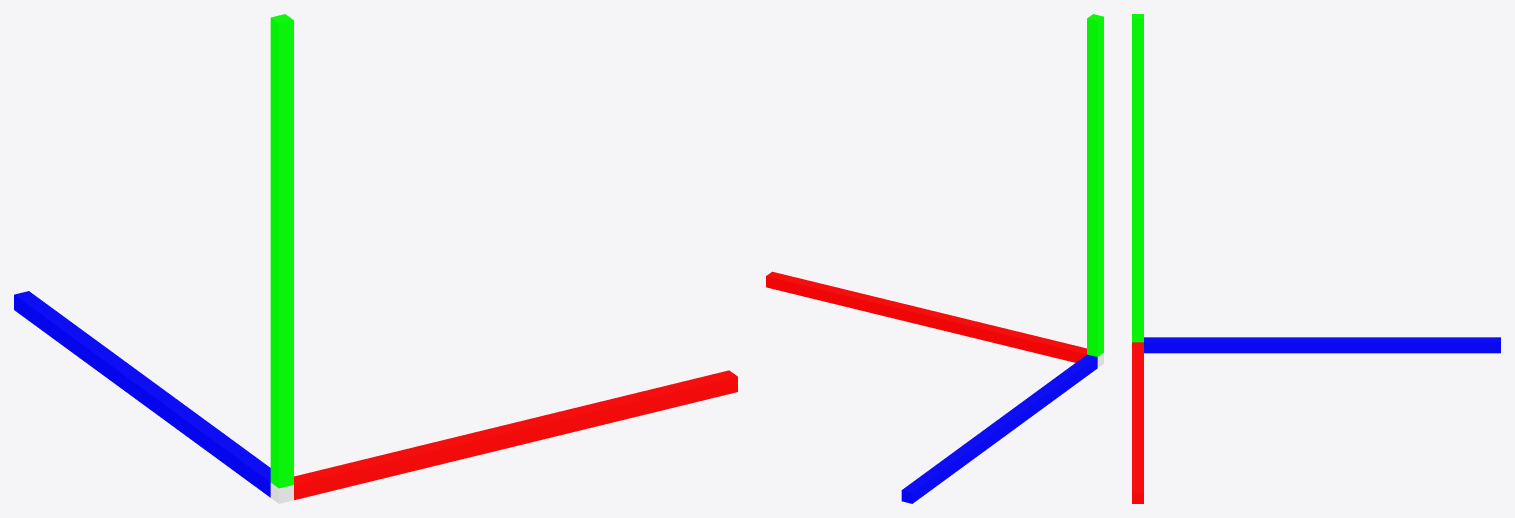
File: gizmo.glb
The picture shows the model from 3 angles, left to right: view 1: azimuth 30°, elevation 25°; view 2: azimuth 150°, elevation 25°; view 3: azimuth 270°, elevation 25°; orthographic projection. The views are drawn at different scales.
Visible parts, largest first — view 1: Gizmo; view 2: Gizmo; view 3: Gizmo.
Part boxes in pixels (x1,y1,x2,y2): Gizmo: (14,14,737,503); Gizmo: (766,14,1103,503); Gizmo: (1132,14,1500,503).
Size of the model in its own units: 3.1 by 3.1 by 3.1.
